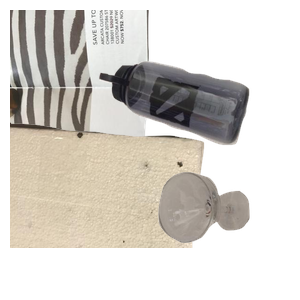glass: (156, 170, 300, 300)
paper: (10, 10, 250, 190)
plastic: (97, 59, 300, 197)
trash: (10, 120, 207, 300)
